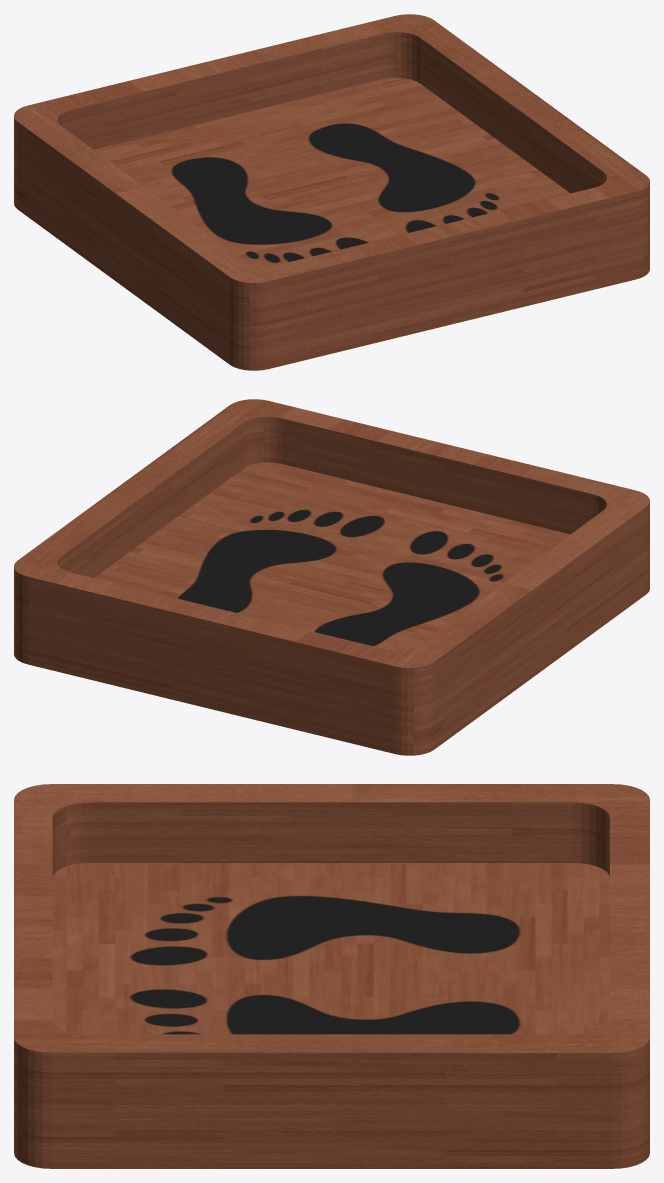
Rendered from PAIN ANS STROKE BALANCE TRAY 2.fbx.
3 views of the same model, one above another, from view 1: azimuth 30°, elevation 25°; view 2: azimuth 150°, elevation 25°; view 3: azimuth 270°, elevation 25° (orthographic). The views are drawn at different scales.
Visible parts, largest first — view 1: Cube; view 2: Cube; view 3: Cube.
Boxes of the visible parts, x1,y1,x2,y2 form: Cube: (14,14,649,370); Cube: (14,399,649,755); Cube: (14,784,649,1168).
Bounding box in the file's own units: 200 × 40.26 × 200.
